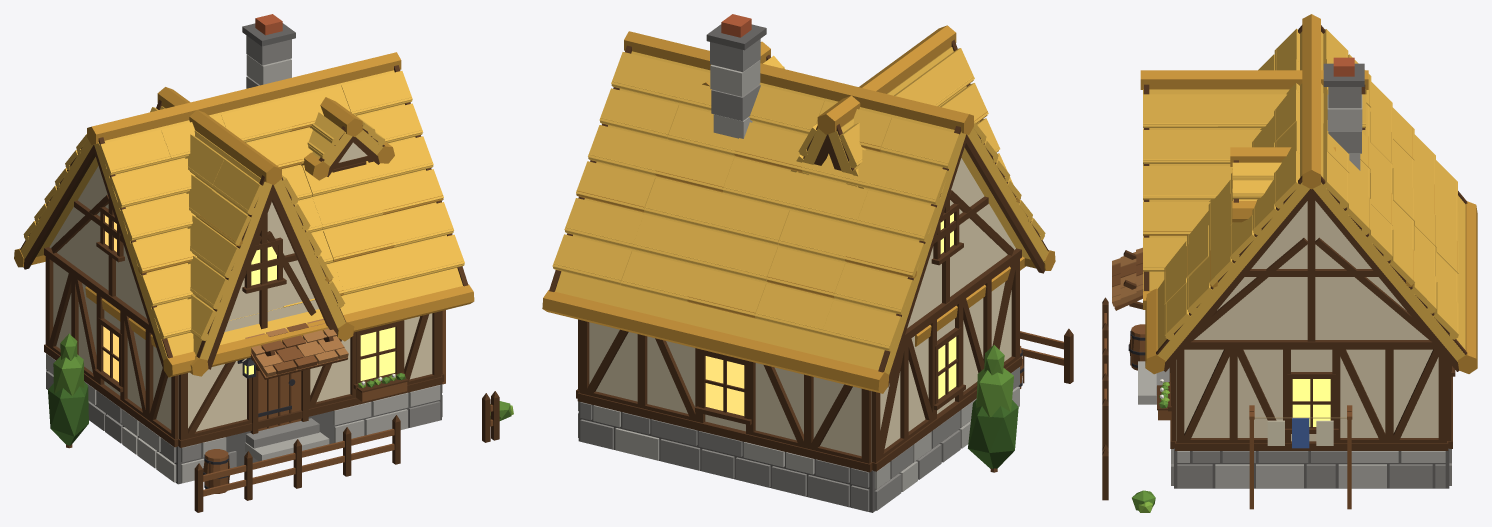
Rendered from Cottage_02_Thatch.fbx.
3 views of the same model, side by side, from view 1: azimuth 30°, elevation 25°; view 2: azimuth 150°, elevation 25°; view 3: azimuth 270°, elevation 25° (orthographic). The views are drawn at different scales.
Visible parts, largest first — view 1: Cottage_02_Thatch_LOD0; view 2: Cottage_02_Thatch_LOD0; view 3: Cottage_02_Thatch_LOD0.
Boxes of the visible parts, left/top/right/bottom form: Cottage_02_Thatch_LOD0: left=14, top=14, right=513, bottom=512; Cottage_02_Thatch_LOD0: left=542, top=14, right=1073, bottom=512; Cottage_02_Thatch_LOD0: left=1102, top=14, right=1477, bottom=512.
Size of what is drawn, in the model's own units: 8.53 by 7.76 by 6.92.
